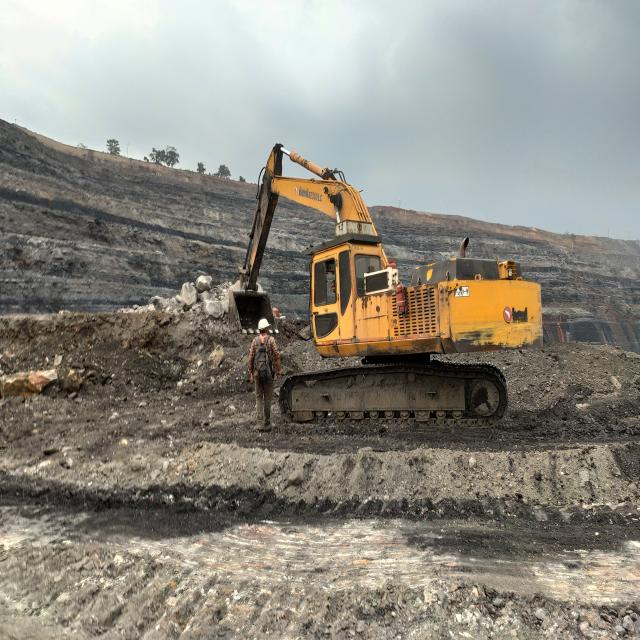excavator: (229, 145, 542, 427)
